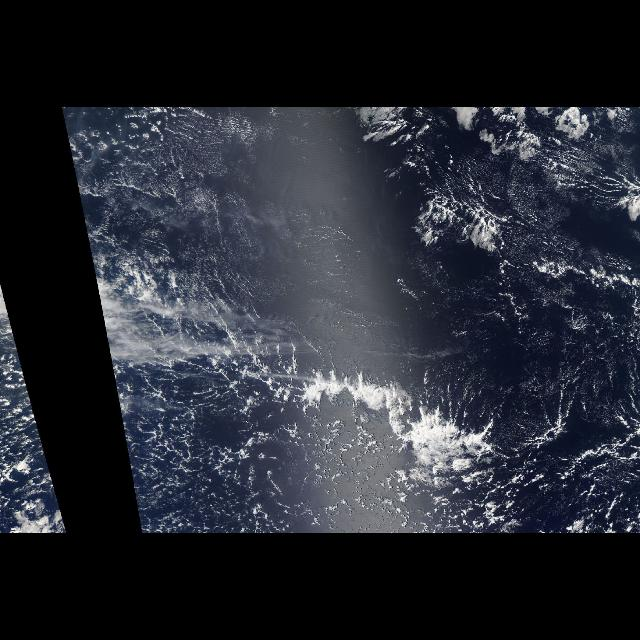Gravel: (110, 368, 380, 534), (36, 416, 56, 494)
Sugar: (92, 115, 264, 278), (442, 144, 608, 300)
